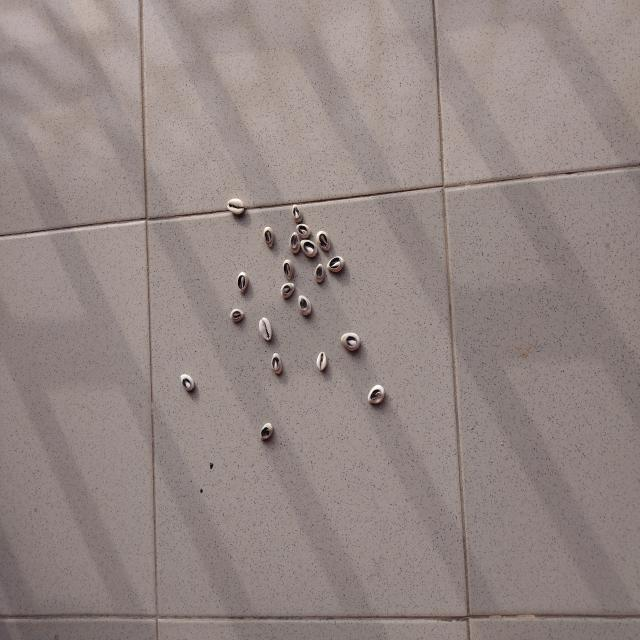facedown: (339, 331, 362, 352), (366, 384, 387, 406), (270, 351, 284, 377), (298, 292, 312, 318), (235, 270, 250, 294), (327, 254, 345, 274), (317, 230, 333, 252), (179, 373, 196, 393), (278, 282, 298, 299), (300, 240, 319, 257), (258, 422, 274, 442), (313, 260, 326, 284), (263, 225, 275, 250), (229, 306, 245, 324), (282, 258, 294, 281), (290, 232, 300, 254), (292, 202, 302, 223), (296, 224, 311, 238)
faceup: (226, 195, 245, 216), (258, 316, 272, 342), (316, 350, 327, 372)
